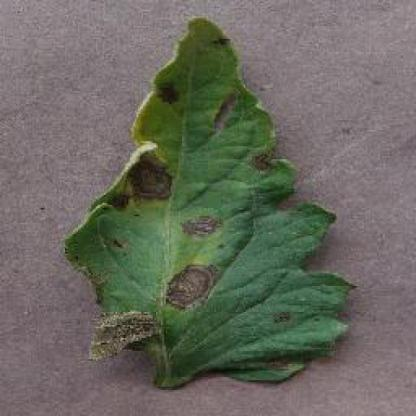Tomato_Blight: (64, 19, 356, 389)
